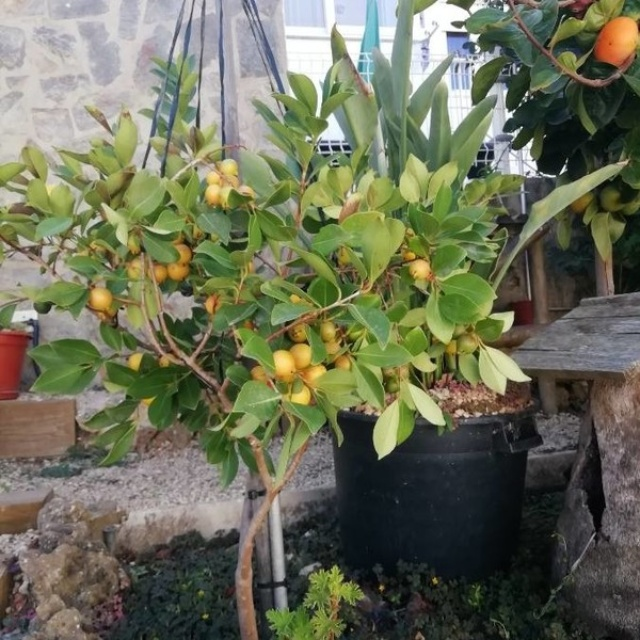obstacle: (10, 54, 509, 625)
